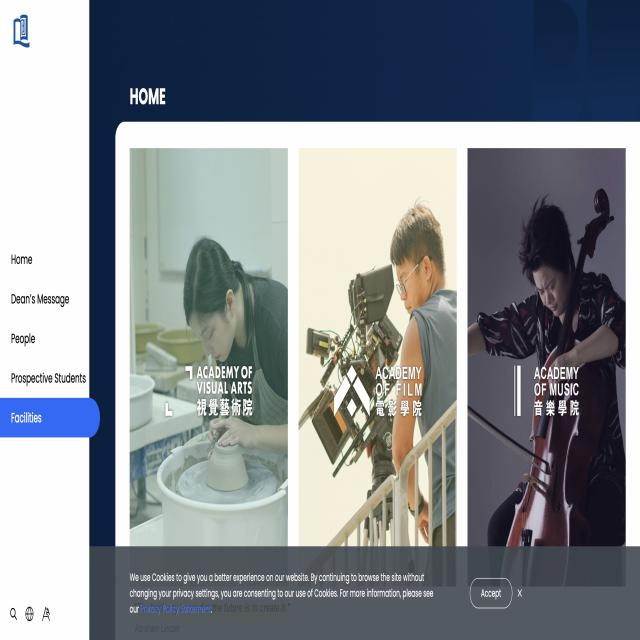Logo: (0, 0, 43, 77)
Navigation: (0, 194, 103, 496)
